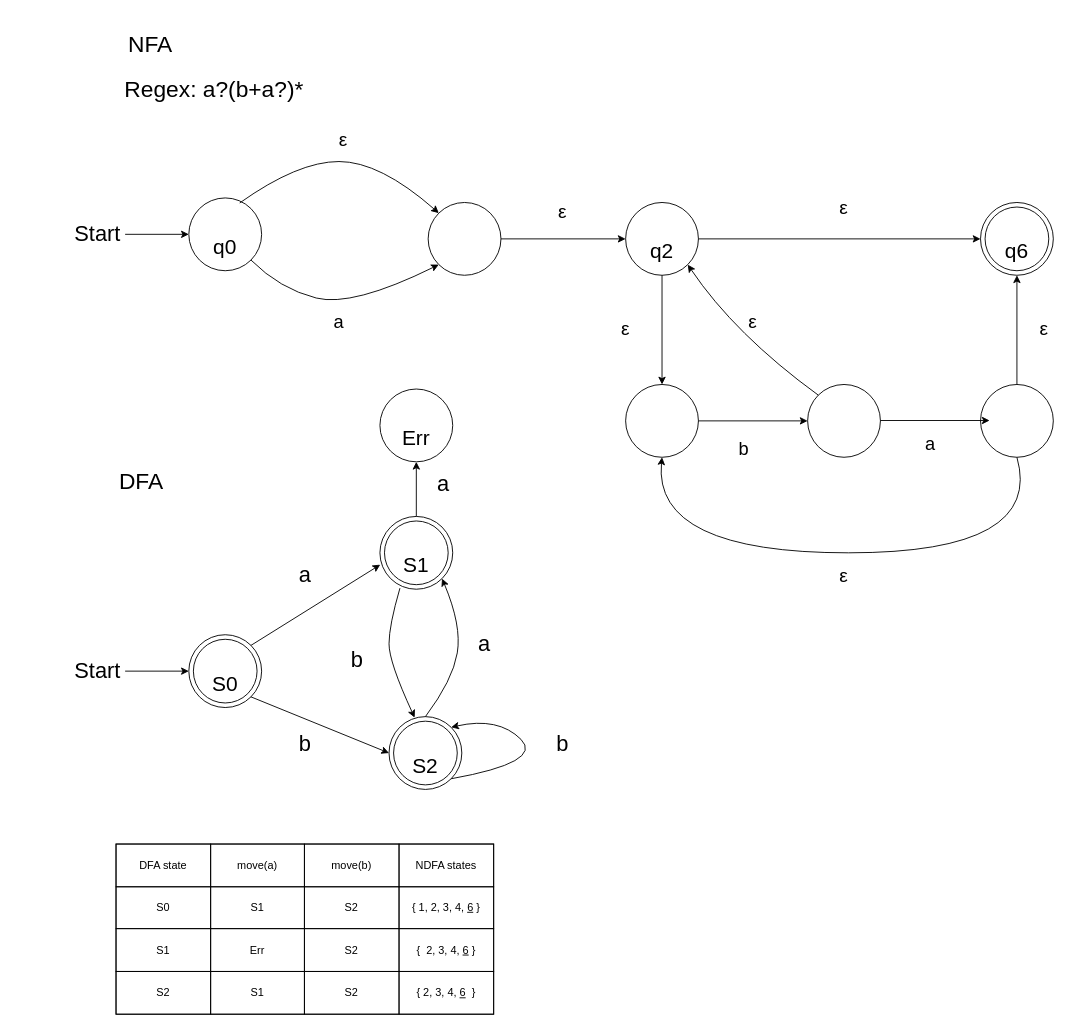
This 1087x1030 diagram has some shape labels left out. Here are the shapes that lost their labels. From the top down, the centre of each, then its label:
At [464,238]: "q1".
At [661,420]: "q3".
At [843,420]: "q4".
At [1016,420]: "q5".
